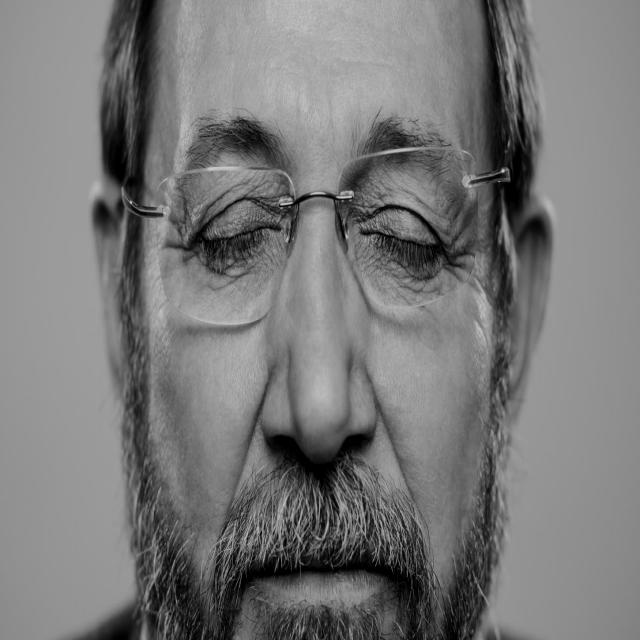real: (89, 0, 556, 640), (170, 116, 484, 332)
